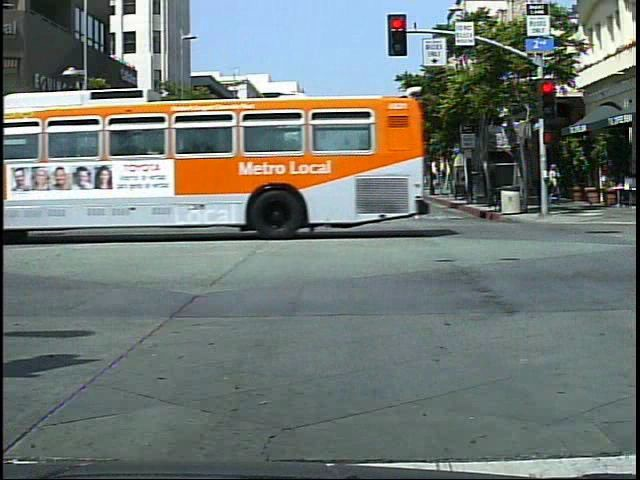person: (270, 165, 302, 229), (167, 168, 196, 234), (358, 166, 387, 230), (548, 160, 570, 207)
